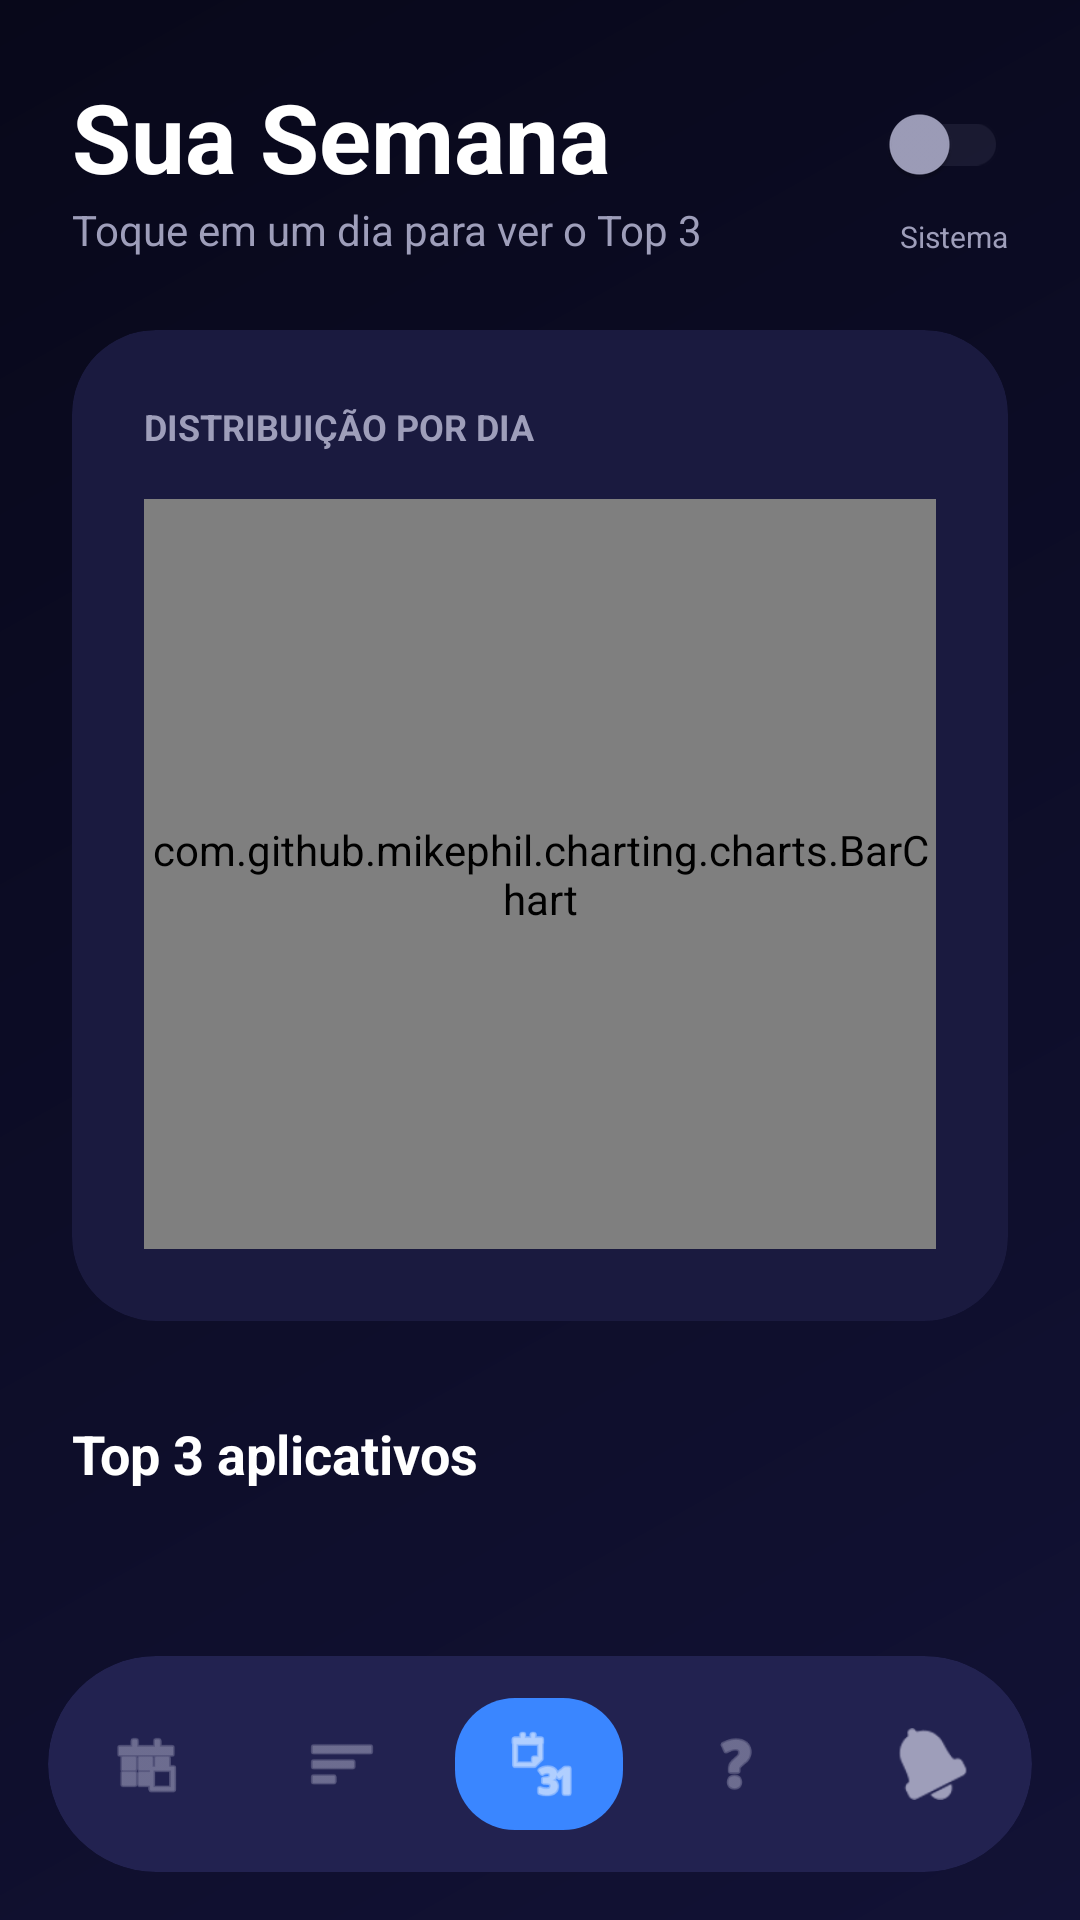

Screen size 1080px×1920px. Icon name, then its box in pixels as (x1, y1, x2, y2):
Alerts: (899, 1728, 967, 1800)
Tips: (721, 1738, 752, 1790)
Week: (511, 1732, 572, 1796)
